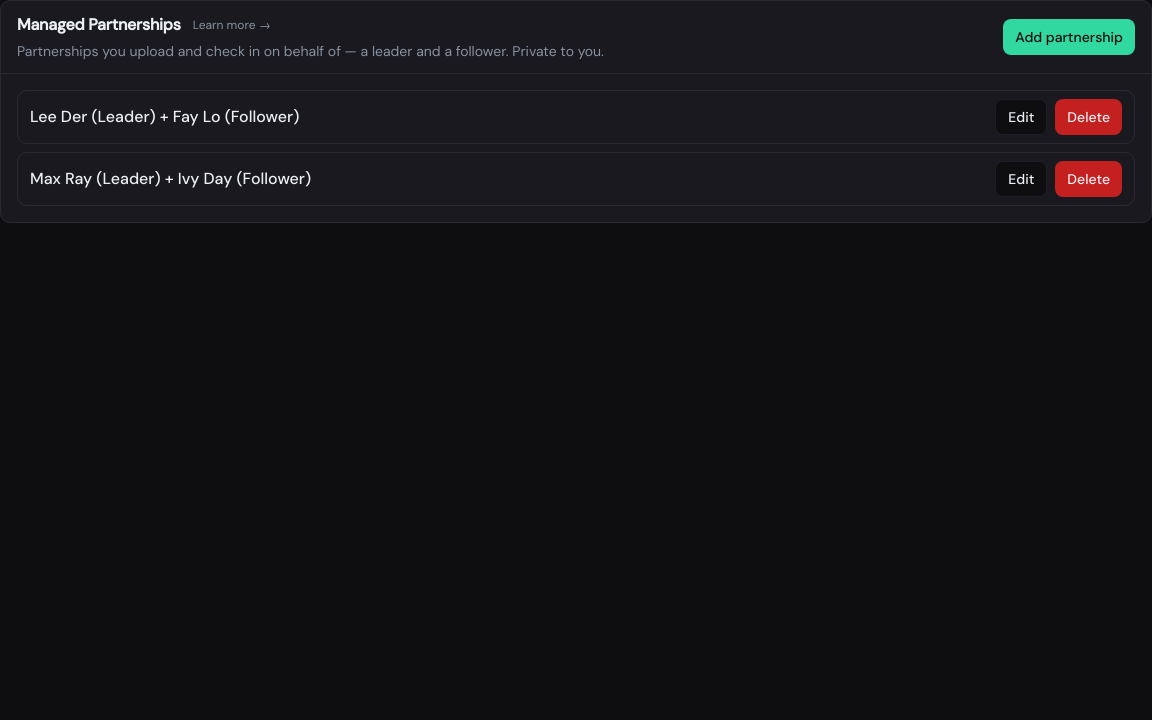
Scenario: ManagedPartnershipsSection — managing partnerships › edits a partnership with a PATCH pre-filled from the row
The width and height of the screenshot is (1152, 720).
expect the text "Lee Der (Leader) + Fay Lo (Follower)" is shown: met, box [30,105,299,129]
Click the button "Edit" in the row of "Lee Der (Leader) + Fay Lo (Follower)": (1021, 117) [995,99,1047,135]
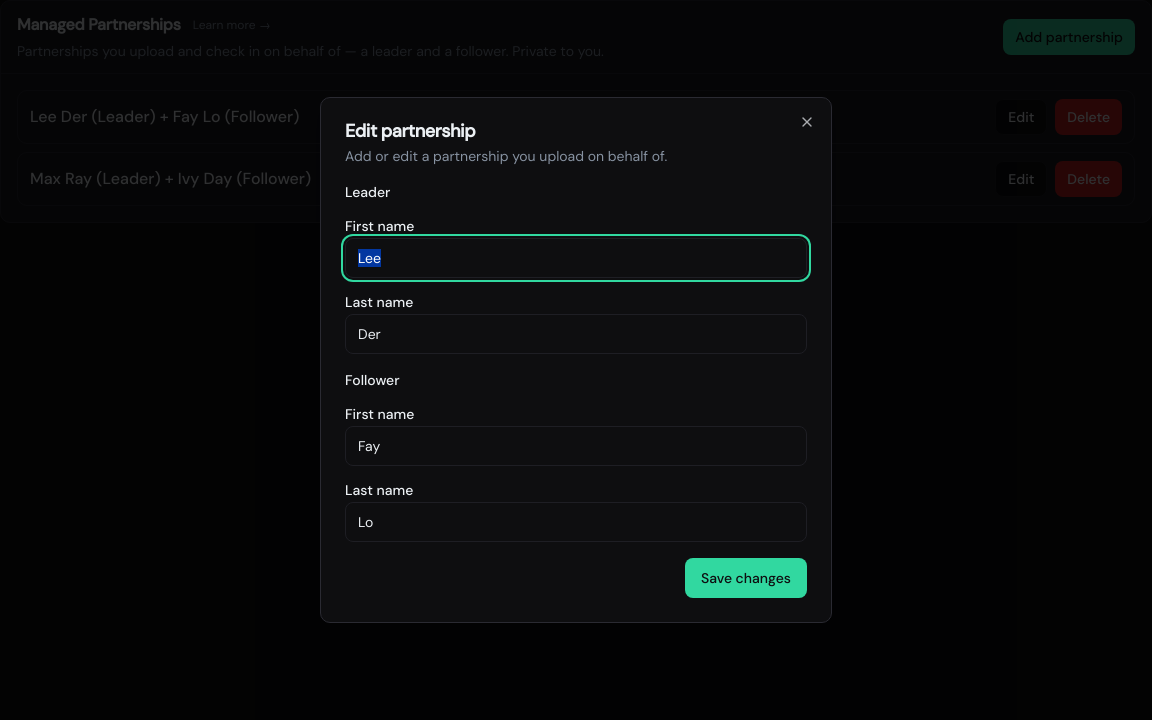
expect the heading "Edit partnership" is shown: met, box [345,119,475,143]
In the 2nd field labelled "First name": (576, 446) [345,426,807,466], type "e"
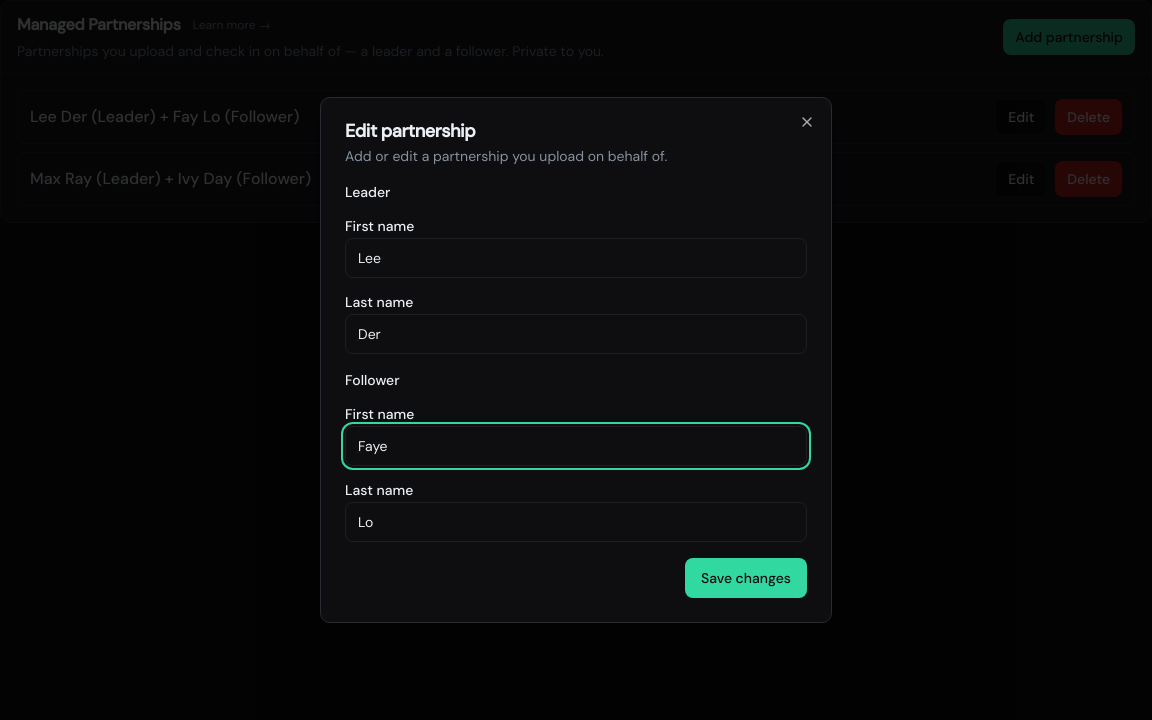
Click the button "Save changes": (746, 578) [685,558,807,598]
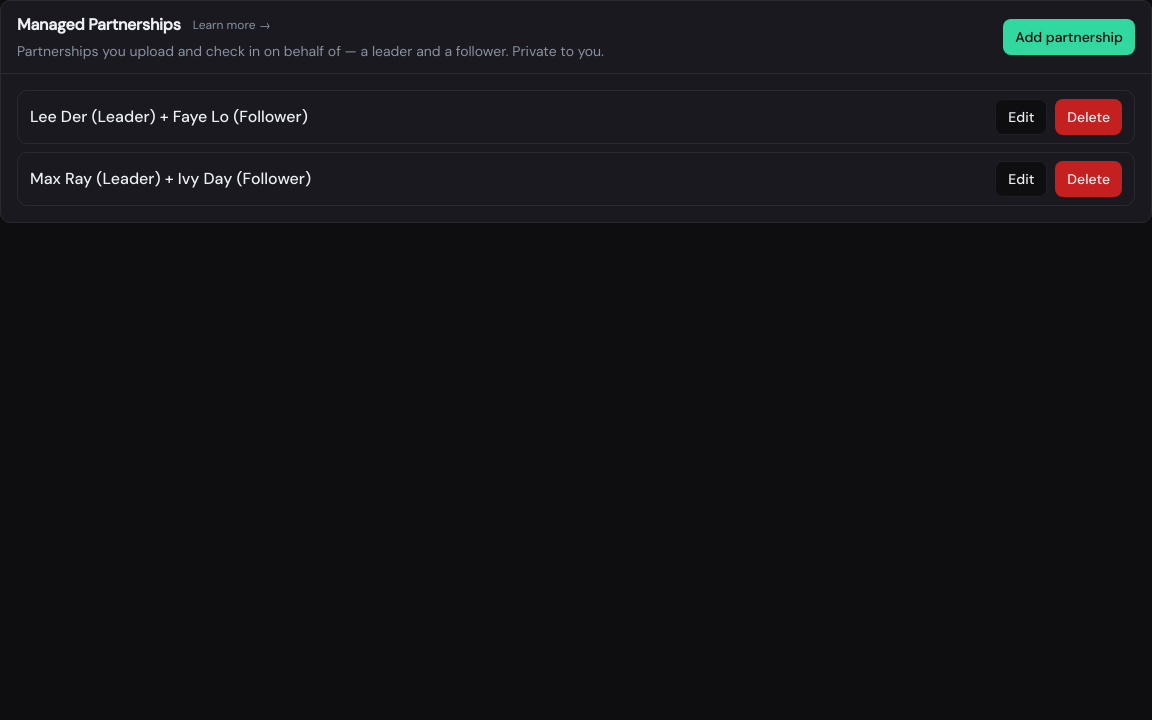
expect the text "Max Ray (Leader) + Ivy Day (Follower)" is shown: met, box [30,167,311,191]
expect the text "Lee Der (Leader) + Faye Lo (Follower)" is shown: met, box [30,105,308,129]
